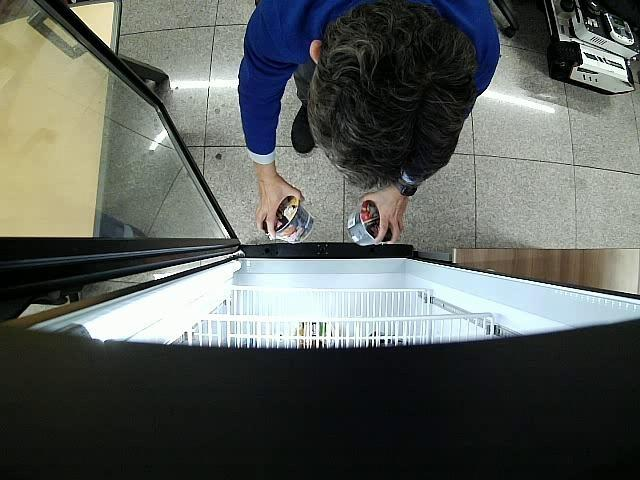07_buldak_L: (264, 194, 316, 241), (348, 200, 390, 245)
